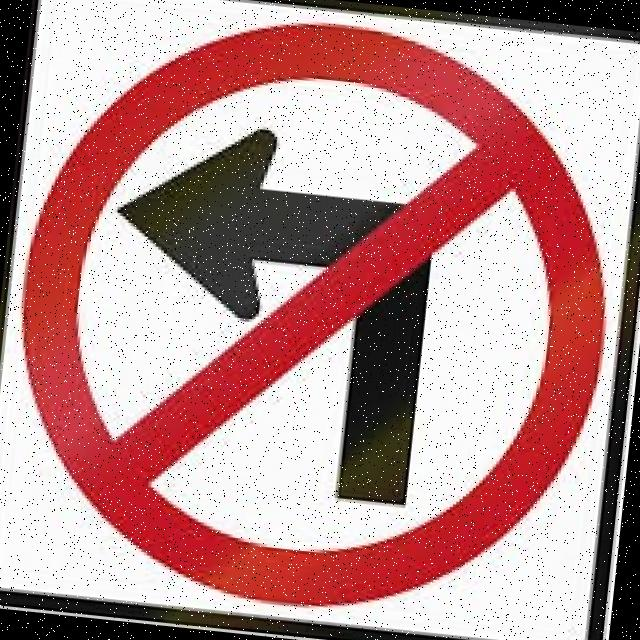do_not_turn_right: (0, 0, 637, 636)
